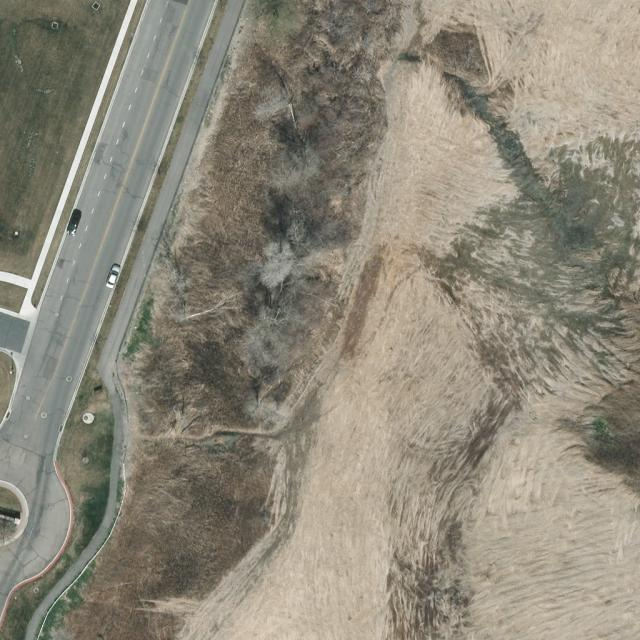vehicle: (66, 208, 84, 236), (105, 264, 122, 290)
